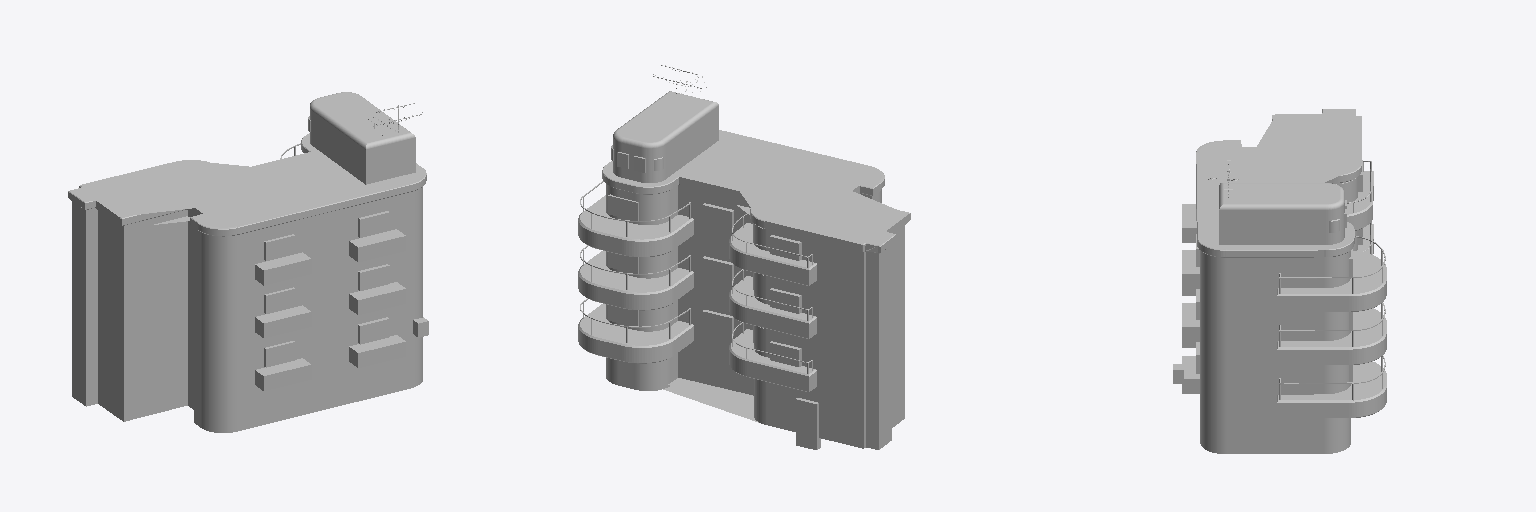
The model's file is bauhaus.obj.
3 views of the same model, side by side, from view 1: azimuth 30°, elevation 25°; view 2: azimuth 150°, elevation 25°; view 3: azimuth 270°, elevation 25° (orthographic).
Parts seen in each view (by area): view 1: BauhausTop, RoofCube_Cube.007, BalconyBoxR_Cube.001, BlaconyBoxLeft_Cube.005, Cube.004_Cube.008, Cube.001_Cube.015; view 2: BauhausTop, BalconyFat_Plane, BlaconyThinIn_Plane.004, RoofCube_Cube.007, Cube.010_Cube.023, Cube.013_Cube.004, Cube.007_Cube.020, Cube_Cube.029, BauhausTop.001, BezierCurve_BezierCurve.001; view 3: BauhausTop, BalconyFat_Plane, RoofCube_Cube.007, BalconyBoxR_Cube.001, BlaconyThinIn_Plane.004, BlaconyBoxLeft_Cube.005, BezierCurve_BezierCurve.001.
Boxes of the visible parts, box(x1,y1,x2,y2) form: BauhausTop: box(68, 133, 426, 432); RoofCube_Cube.007: box(310, 92, 415, 184); BalconyBoxR_Cube.001: box(349, 229, 405, 367); BlaconyBoxLeft_Cube.005: box(255, 252, 311, 390); Cube.004_Cube.008: box(358, 211, 389, 344); Cube.001_Cube.015: box(264, 234, 295, 367); BauhausTop: box(602, 130, 910, 449); BalconyFat_Plane: box(578, 195, 693, 363); BlaconyThinIn_Plane.004: box(729, 223, 816, 391); RoofCube_Cube.007: box(613, 91, 718, 182); Cube.010_Cube.023: box(702, 203, 733, 336); Cube.013_Cube.004: box(770, 235, 801, 366); Cube.007_Cube.020: box(608, 194, 638, 325); Cube_Cube.029: box(796, 398, 820, 449); BauhausTop.001: box(668, 208, 753, 414); BezierCurve_BezierCurve.001: box(580, 181, 690, 327); BauhausTop: box(1196, 109, 1361, 453); BalconyFat_Plane: box(1277, 251, 1386, 417); RoofCube_Cube.007: box(1219, 183, 1344, 244); BalconyBoxR_Cube.001: box(1182, 250, 1199, 393); BlaconyThinIn_Plane.004: box(1347, 171, 1373, 254); BlaconyBoxLeft_Cube.005: box(1182, 204, 1196, 347); BezierCurve_BezierCurve.001: box(1279, 236, 1385, 383).
Bounding box in the file's own units: 3.05 × 2.76 × 1.88.